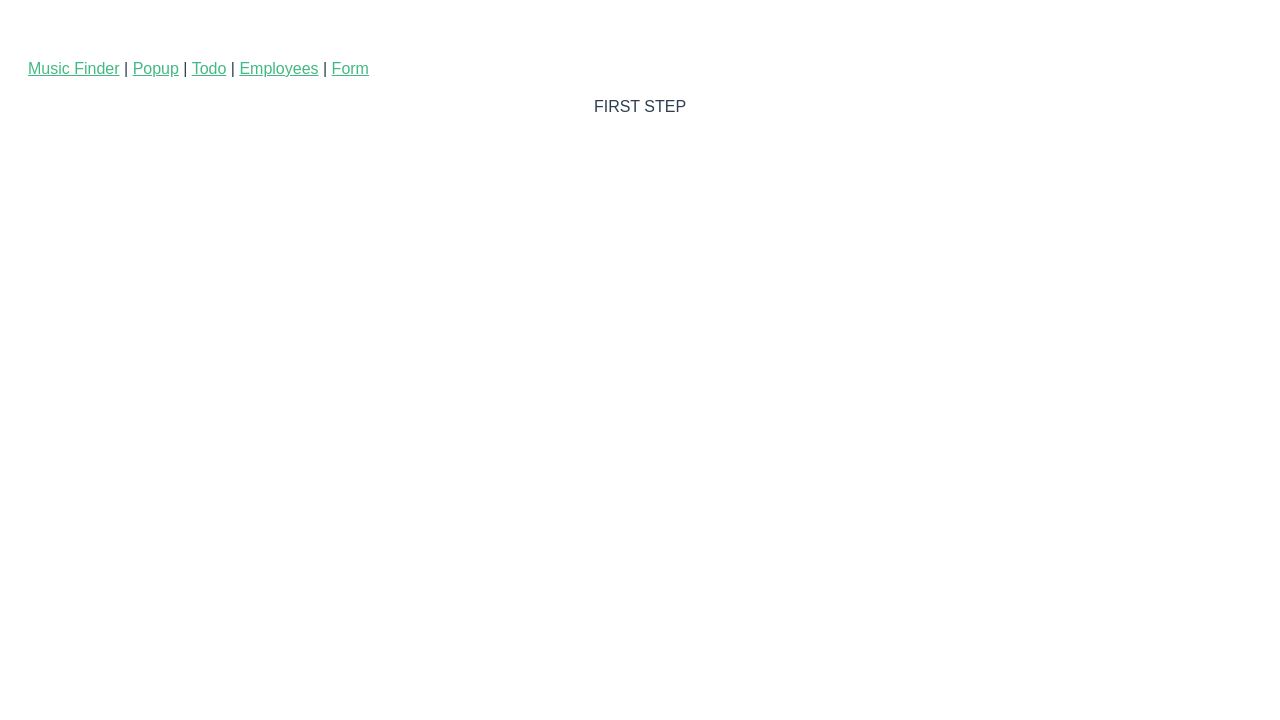
Flaky Popup › follows two steps with confirmation
The image size is (1280, 720).
Click the text with id "first-step": click(640, 107) [594, 98, 686, 115]
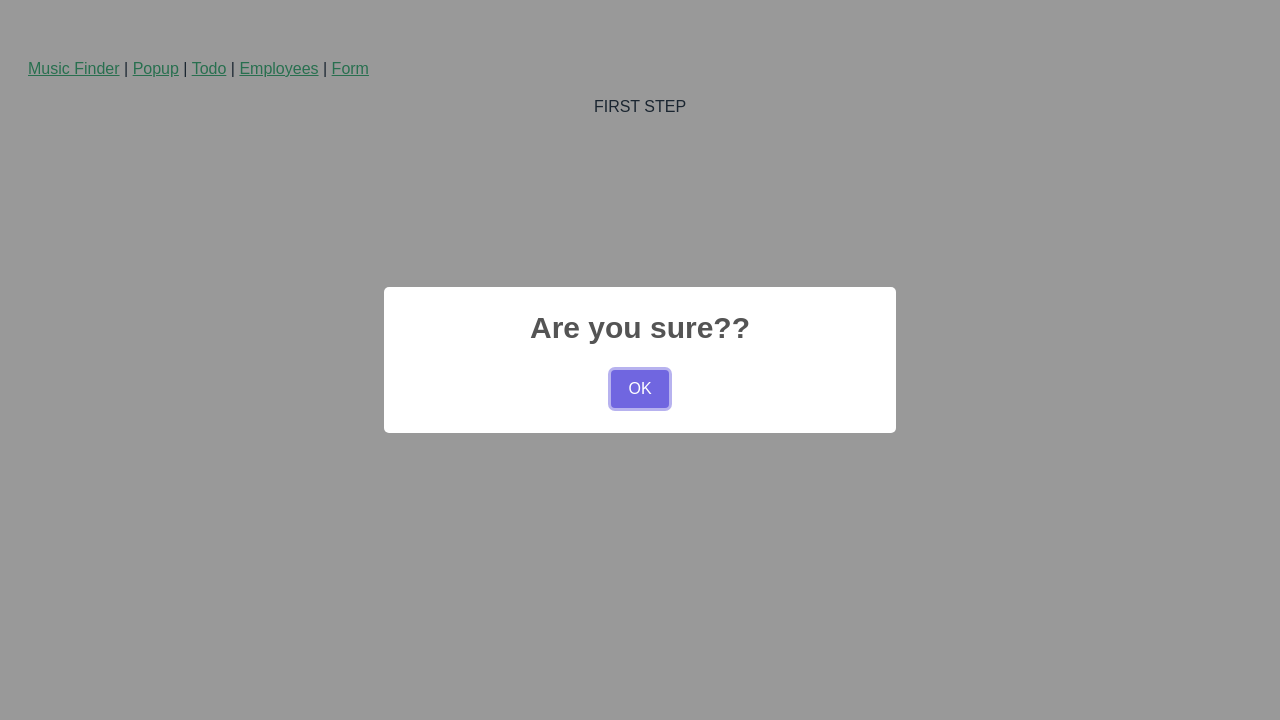
Click the button with class "swal2-confirm": click(640, 389) [611, 370, 669, 408]
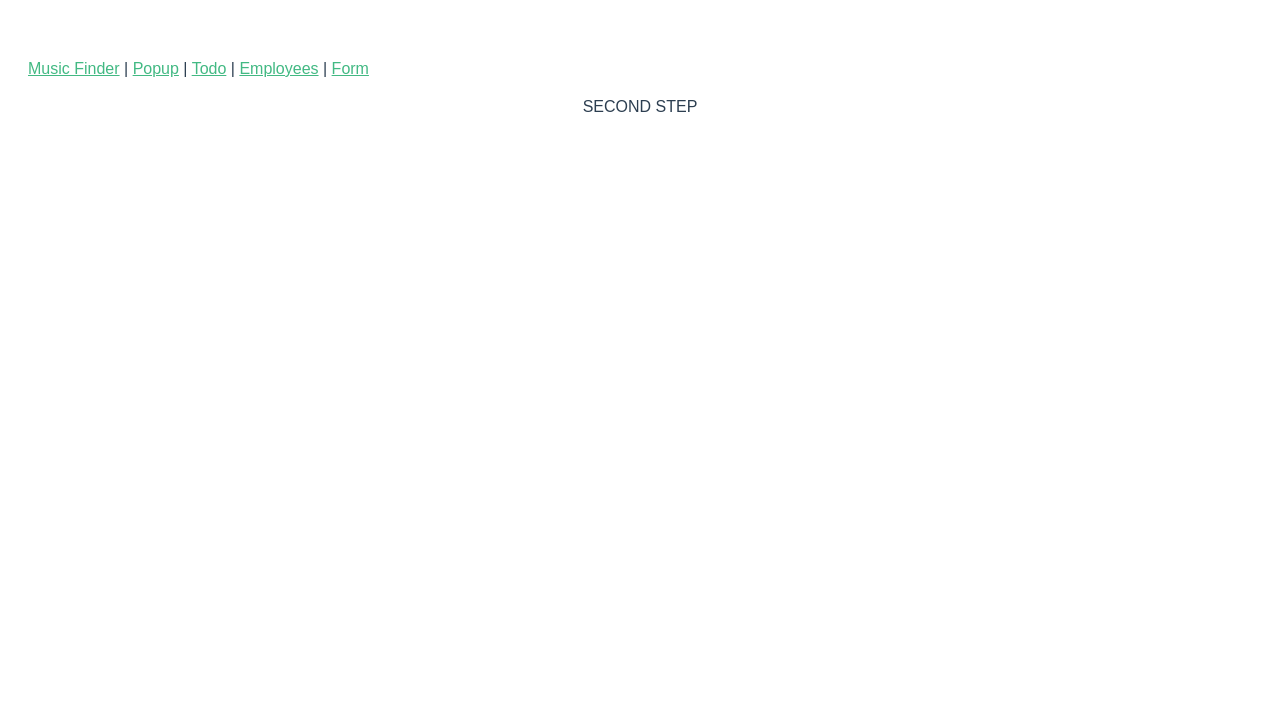
Click the text with id "second-step": click(641, 107) [583, 98, 698, 115]
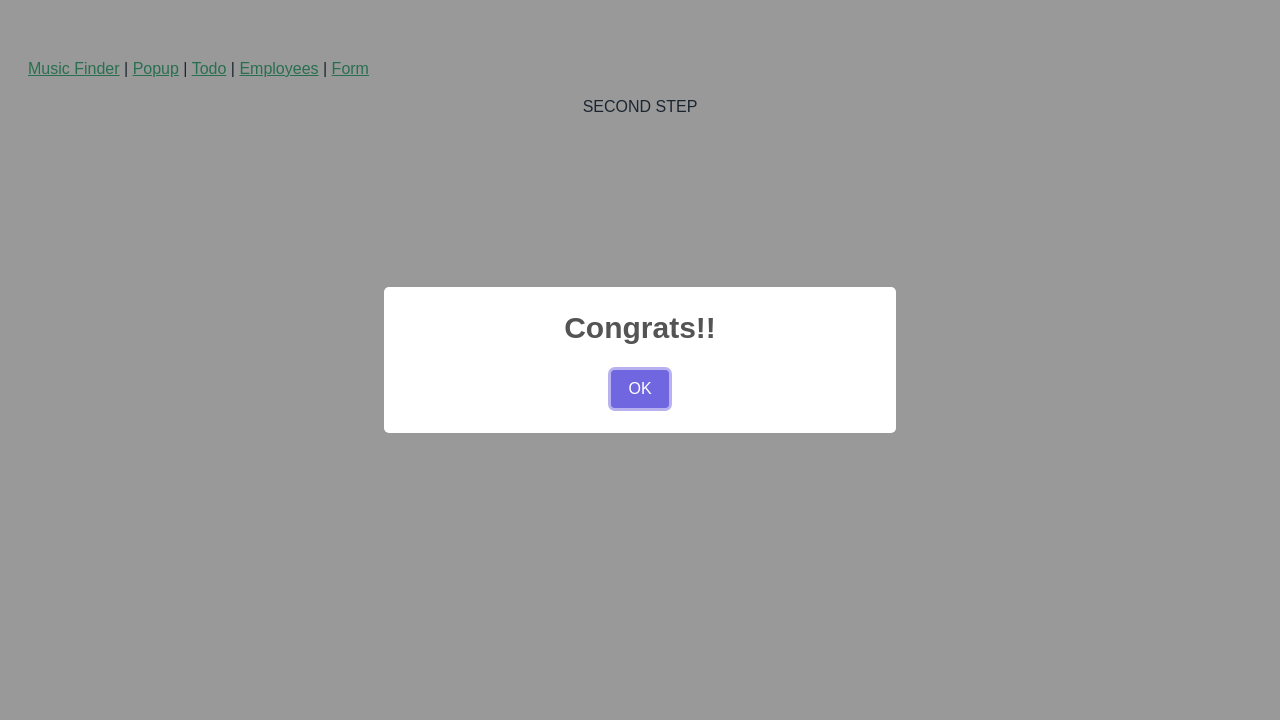
Click the button with class "swal2-confirm": click(640, 389) [611, 370, 669, 408]
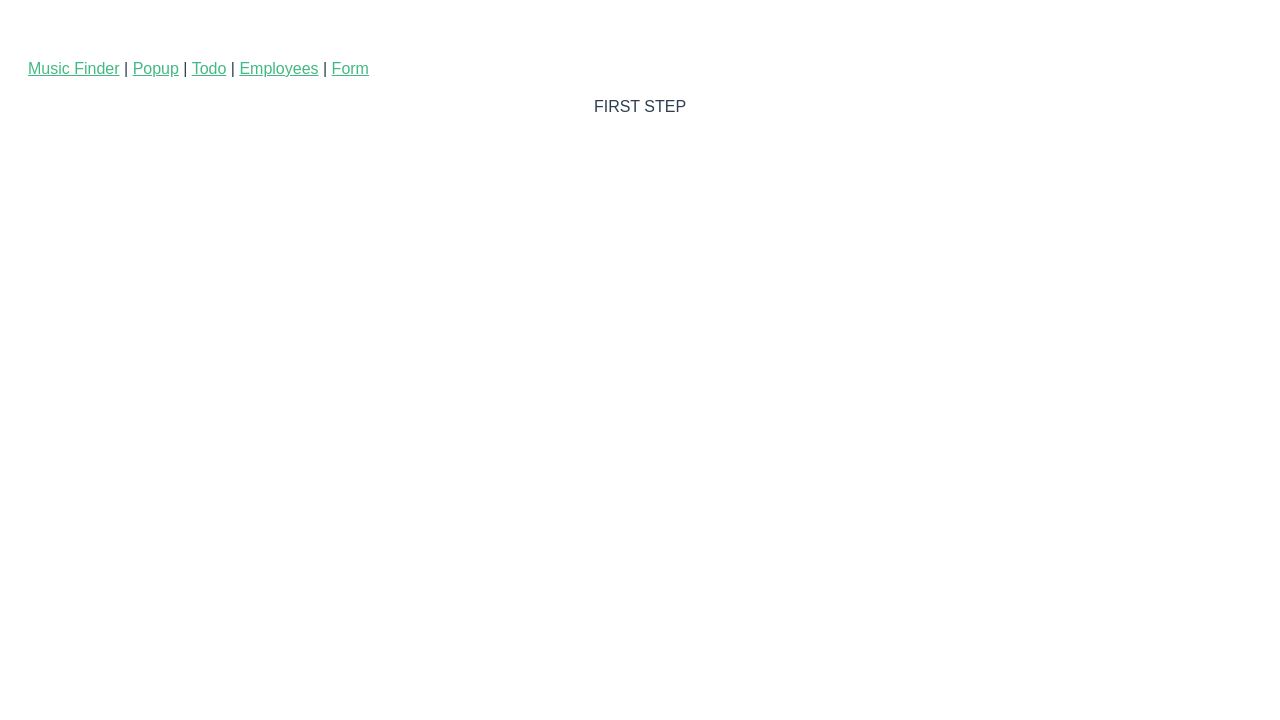
Expected: the text "FIRST STEP" is shown, [594, 98, 686, 115]
